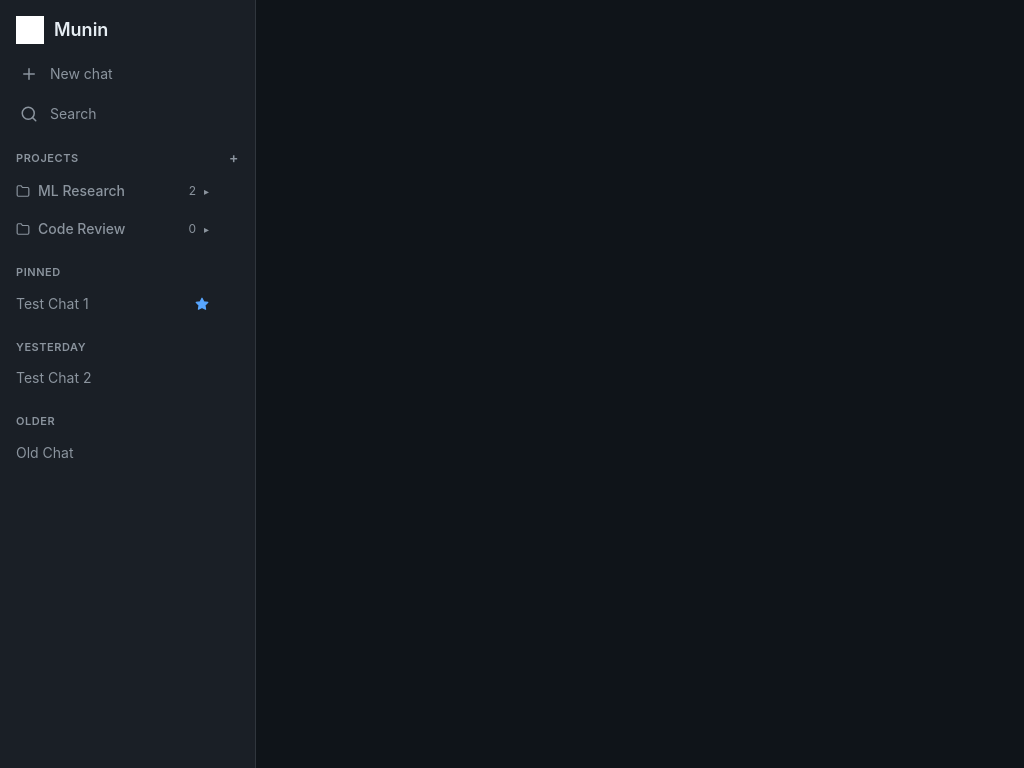
Test case: Sidebar data loading › shows recent chats when the search box is empty, and server hits once typed
The width and height of the screenshot is (1024, 768).
Expected: the link "Test Chat 1" is shown, top-left (16, 294), bottom-right (89, 312)
Click the button "Search".
click(128, 114)  # box top-left (12, 96), bottom-right (243, 132)
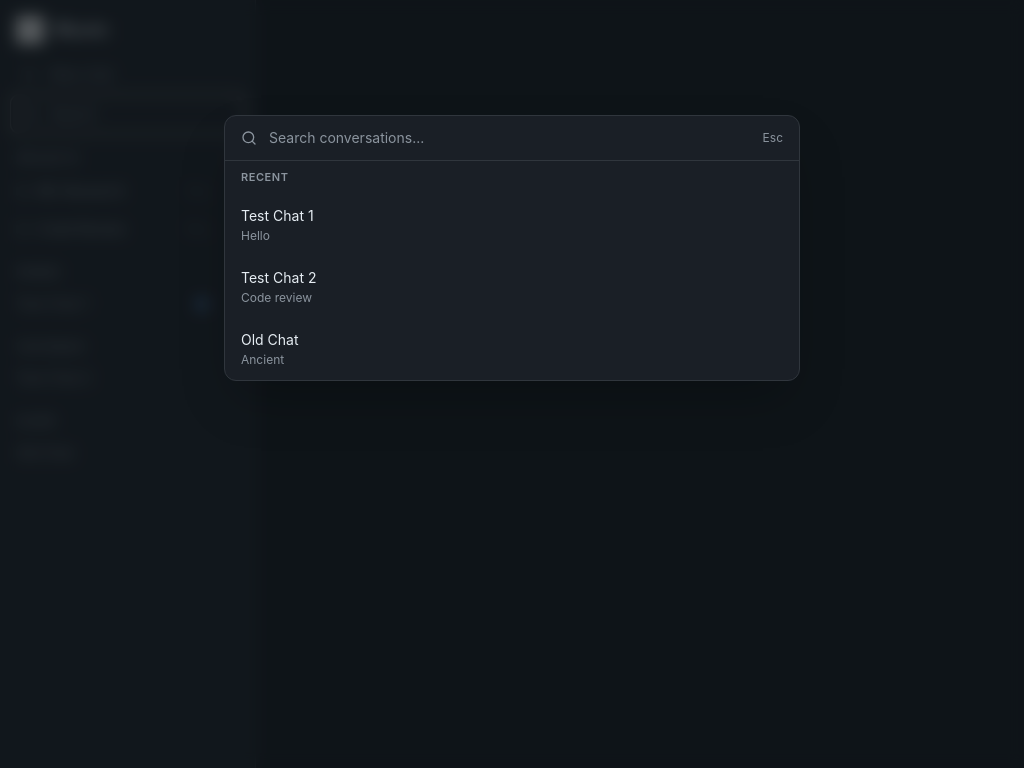
Expected: the text "Recent" is shown, top-left (241, 170), bottom-right (288, 184)
Type "hit" into the field with placeholder "Search conversations...".
click(510, 138); type("hit")  # box top-left (269, 128), bottom-right (751, 148)
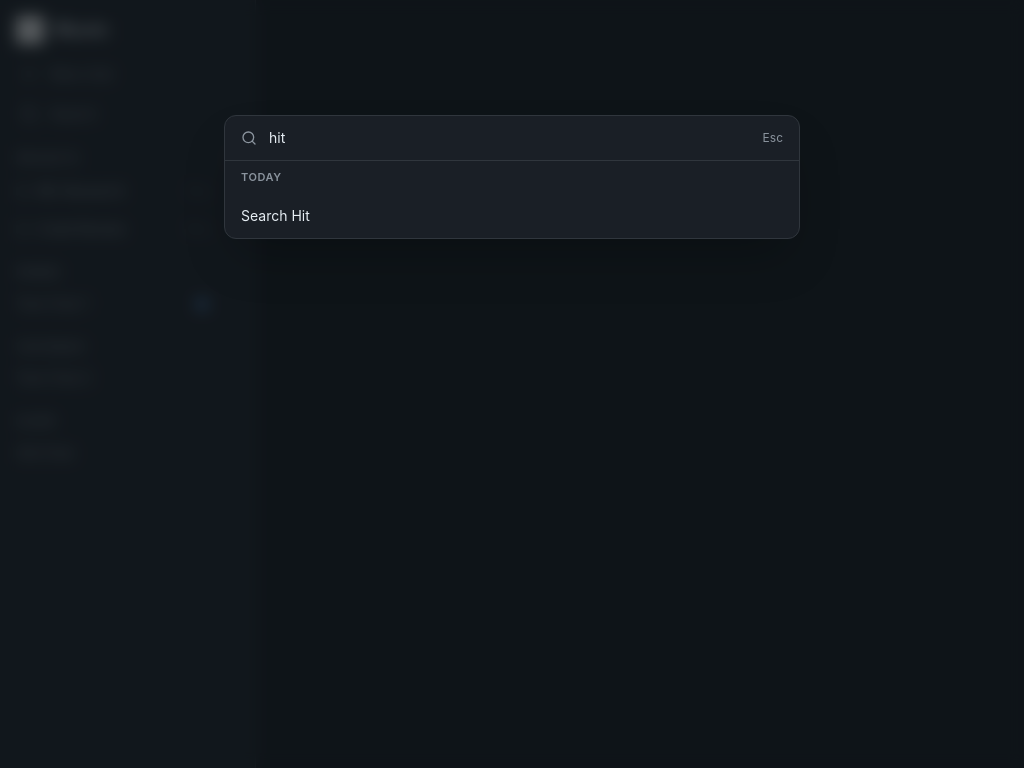
Expected: the text "Search Hit" is shown, top-left (241, 207), bottom-right (310, 224)
Expected: the text "Recent" is gone
